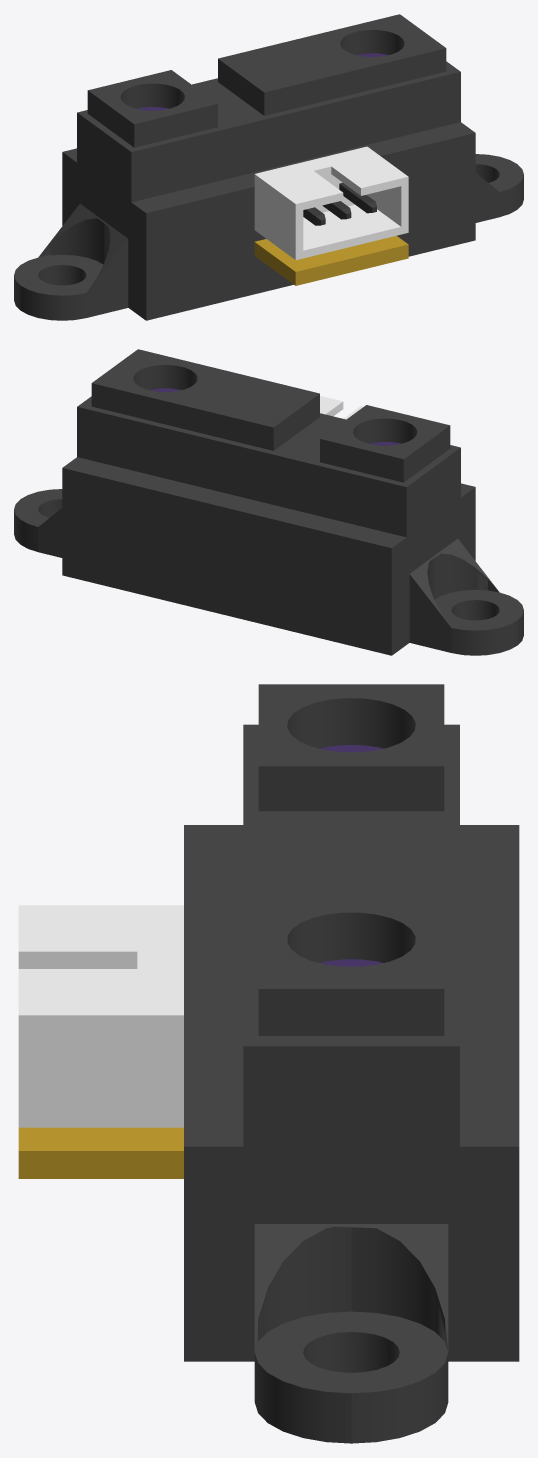
The model's file is Infrared.fbx.
3 renders of one model, top to bottom at view 1: azimuth 30°, elevation 25°; view 2: azimuth 150°, elevation 25°; view 3: azimuth 270°, elevation 25°, orthographic. The views are drawn at different scales.
Parts seen in each view (by area): view 1: Model, Tab2, Tab1; view 2: Model, Tab2, Tab1; view 3: Model, Tab1.
Boxes of the visible parts, x1,y1,x2,y2 form: Model: (62,14,475,320); Tab2: (14,203,128,320); Tab1: (475,154,523,222); Model: (62,349,475,655); Tab2: (409,538,523,655); Tab1: (14,489,62,557); Model: (18,684,519,1361); Tab1: (254,1224,448,1443).
Bounding box in the file's own units: 44.5 × 15.5 × 19.4.
